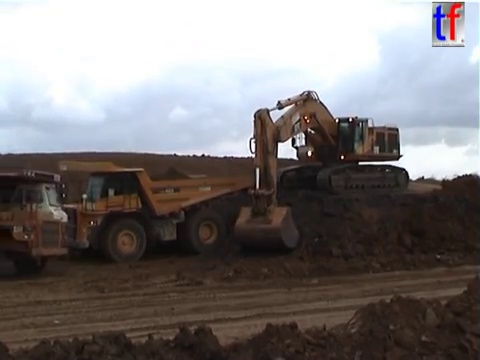excavator: (232, 88, 412, 253)
truck: (53, 158, 257, 264), (1, 165, 71, 283)
